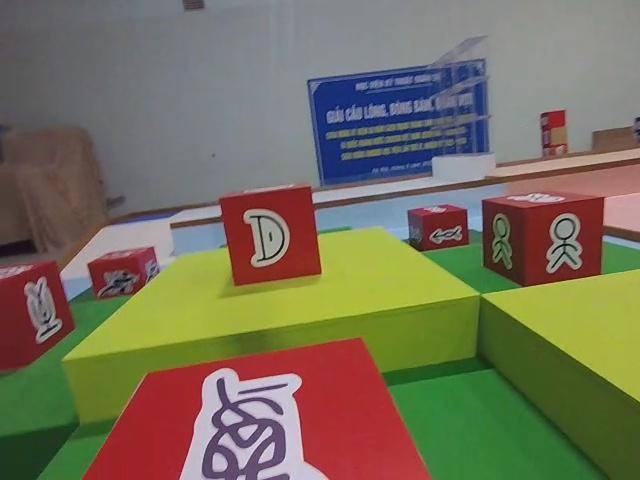R1: (85, 247, 161, 304)
R2 Fake: (81, 333, 433, 480), (0, 257, 76, 374)
R2 Real: (479, 187, 607, 288), (217, 181, 326, 285), (404, 201, 473, 255)
